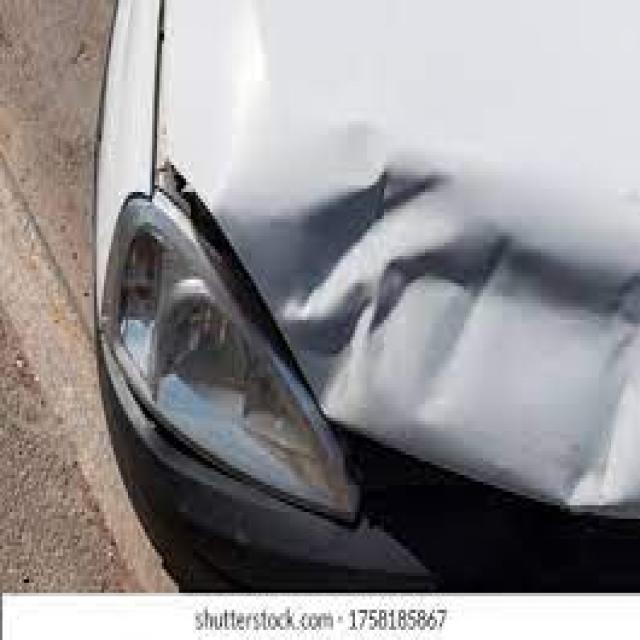damaged-hood: (162, 2, 640, 520)
